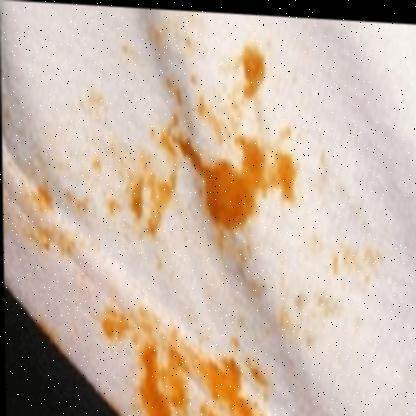kimchi: (23, 185, 120, 259), (177, 142, 265, 223), (216, 224, 269, 311), (121, 163, 172, 240), (134, 20, 203, 74), (111, 312, 196, 355), (87, 96, 120, 187), (190, 81, 240, 137), (204, 358, 250, 416), (261, 149, 304, 205), (240, 45, 278, 98), (138, 358, 171, 416), (329, 253, 378, 288), (278, 303, 321, 341), (176, 358, 195, 416), (166, 72, 187, 107)
